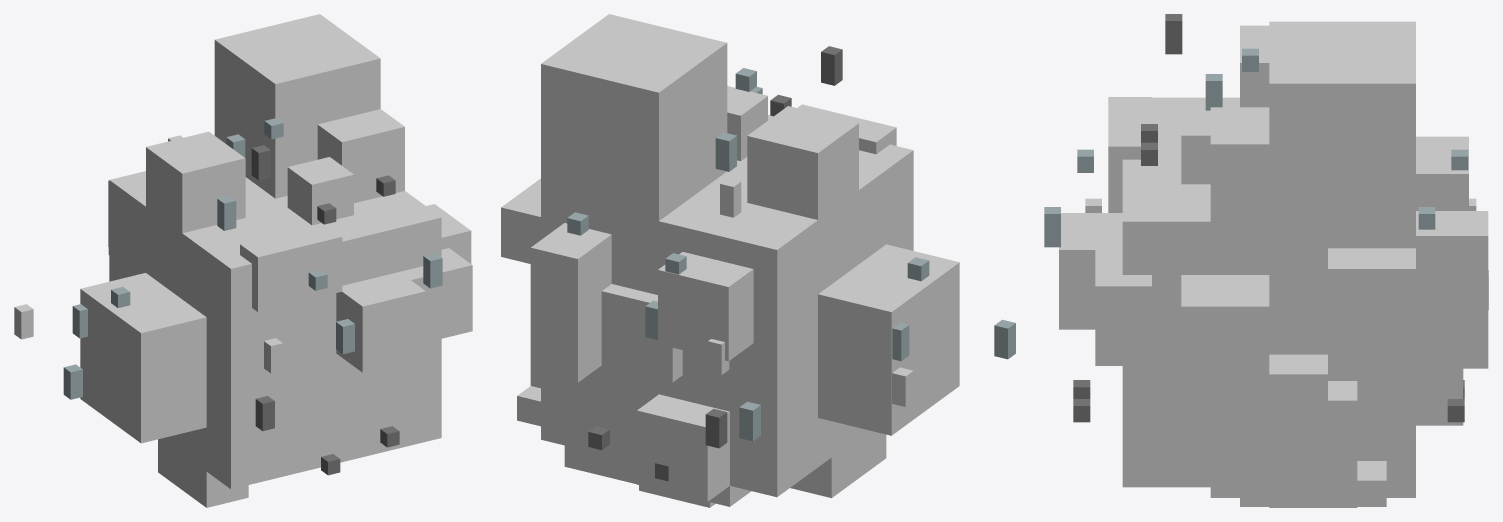
The model's file is Planettest_01.fbx.
The picture shows the model from 3 angles, left to right: view 1: azimuth 30°, elevation 25°; view 2: azimuth 150°, elevation 25°; view 3: azimuth 270°, elevation 25°; orthographic projection. The views are drawn at different scales.
Parts seen in each view (by area): view 1: pCube63; view 2: pCube63; view 3: pCube63.
Part boxes in pixels (x1,y1,x2,y2): pCube63: [14, 14, 472, 507]; pCube63: [501, 14, 1015, 507]; pCube63: [1044, 14, 1488, 507].
Bounding box in the file's own units: 185 × 174 × 152.
